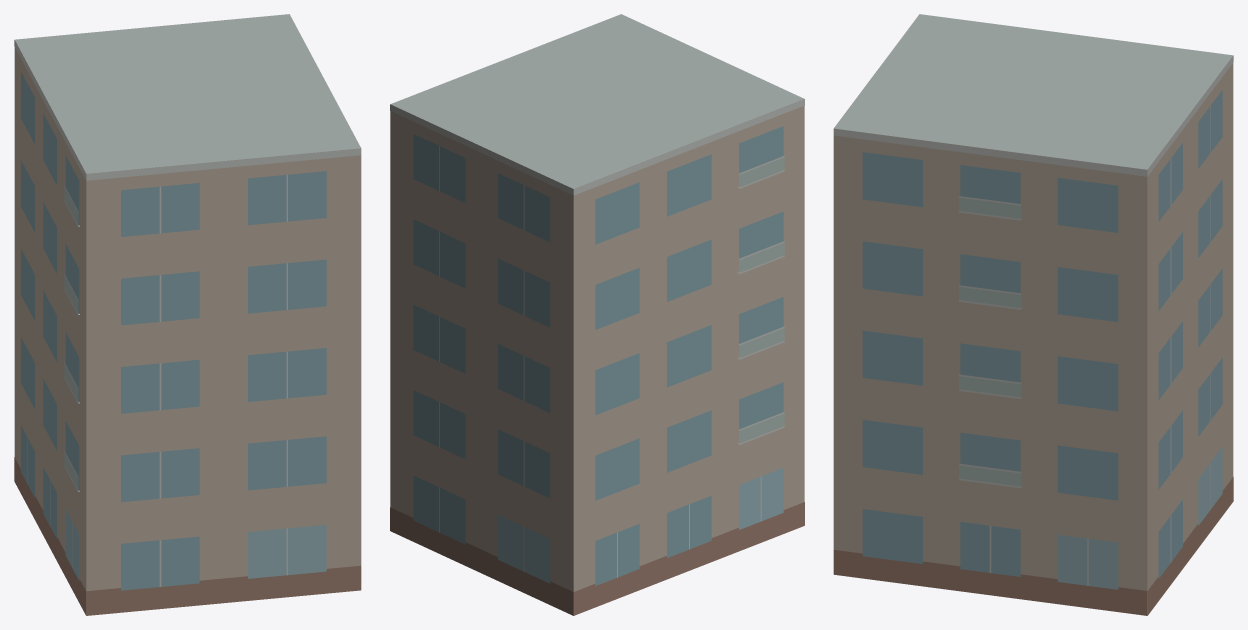
Rendered from survey-upis-32980639.glb.
The picture shows the model from 3 angles, left to right: view 1: azimuth 30°, elevation 25°; view 2: azimuth 150°, elevation 25°; view 3: azimuth 270°, elevation 25°; orthographic projection. The views are drawn at different scales.
Parts seen in each view (by area): view 1: survey-upis-32980639.tmp; view 2: survey-upis-32980639.tmp; view 3: survey-upis-32980639.tmp.
Boxes of the visible parts, x1,y1,x2,y2 form: survey-upis-32980639.tmp: (14, 14, 361, 615); survey-upis-32980639.tmp: (390, 14, 804, 615); survey-upis-32980639.tmp: (833, 14, 1233, 615).
Bounding box in the file's own units: 11.73 × 15.65 × 12.72.
